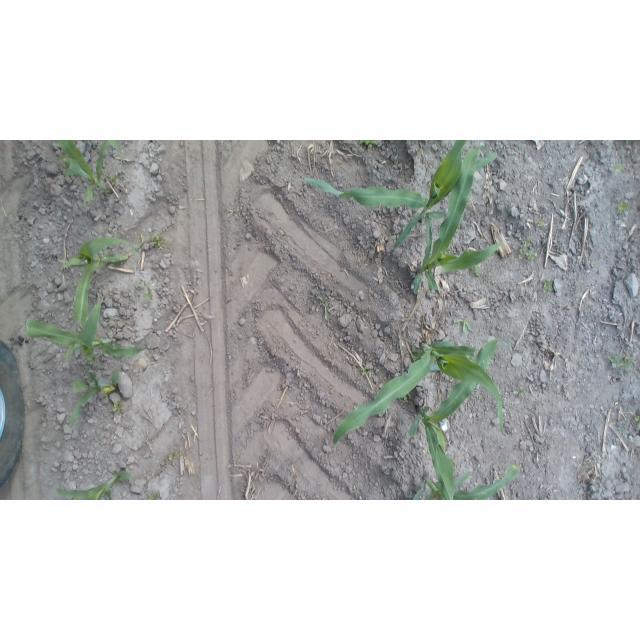Maize: (332, 342, 504, 444), (301, 141, 467, 246), (407, 336, 512, 500), (410, 145, 502, 295), (57, 233, 146, 325), (25, 297, 148, 358), (54, 140, 123, 202), (412, 464, 521, 500), (70, 369, 121, 428), (57, 471, 132, 500)
Weeds: (607, 352, 633, 372), (519, 239, 538, 262), (453, 317, 473, 334), (319, 296, 329, 320), (150, 233, 166, 247), (411, 347, 424, 362), (616, 202, 628, 215), (470, 263, 481, 277), (109, 171, 119, 186), (612, 163, 625, 174), (359, 140, 375, 148), (114, 400, 123, 414), (360, 365, 372, 375), (544, 280, 553, 293), (168, 452, 181, 461), (88, 351, 96, 365), (138, 280, 151, 288), (143, 290, 153, 300), (147, 492, 159, 500), (635, 414, 640, 429), (537, 219, 545, 227), (518, 388, 526, 396), (402, 394, 408, 402), (625, 140, 630, 144)
